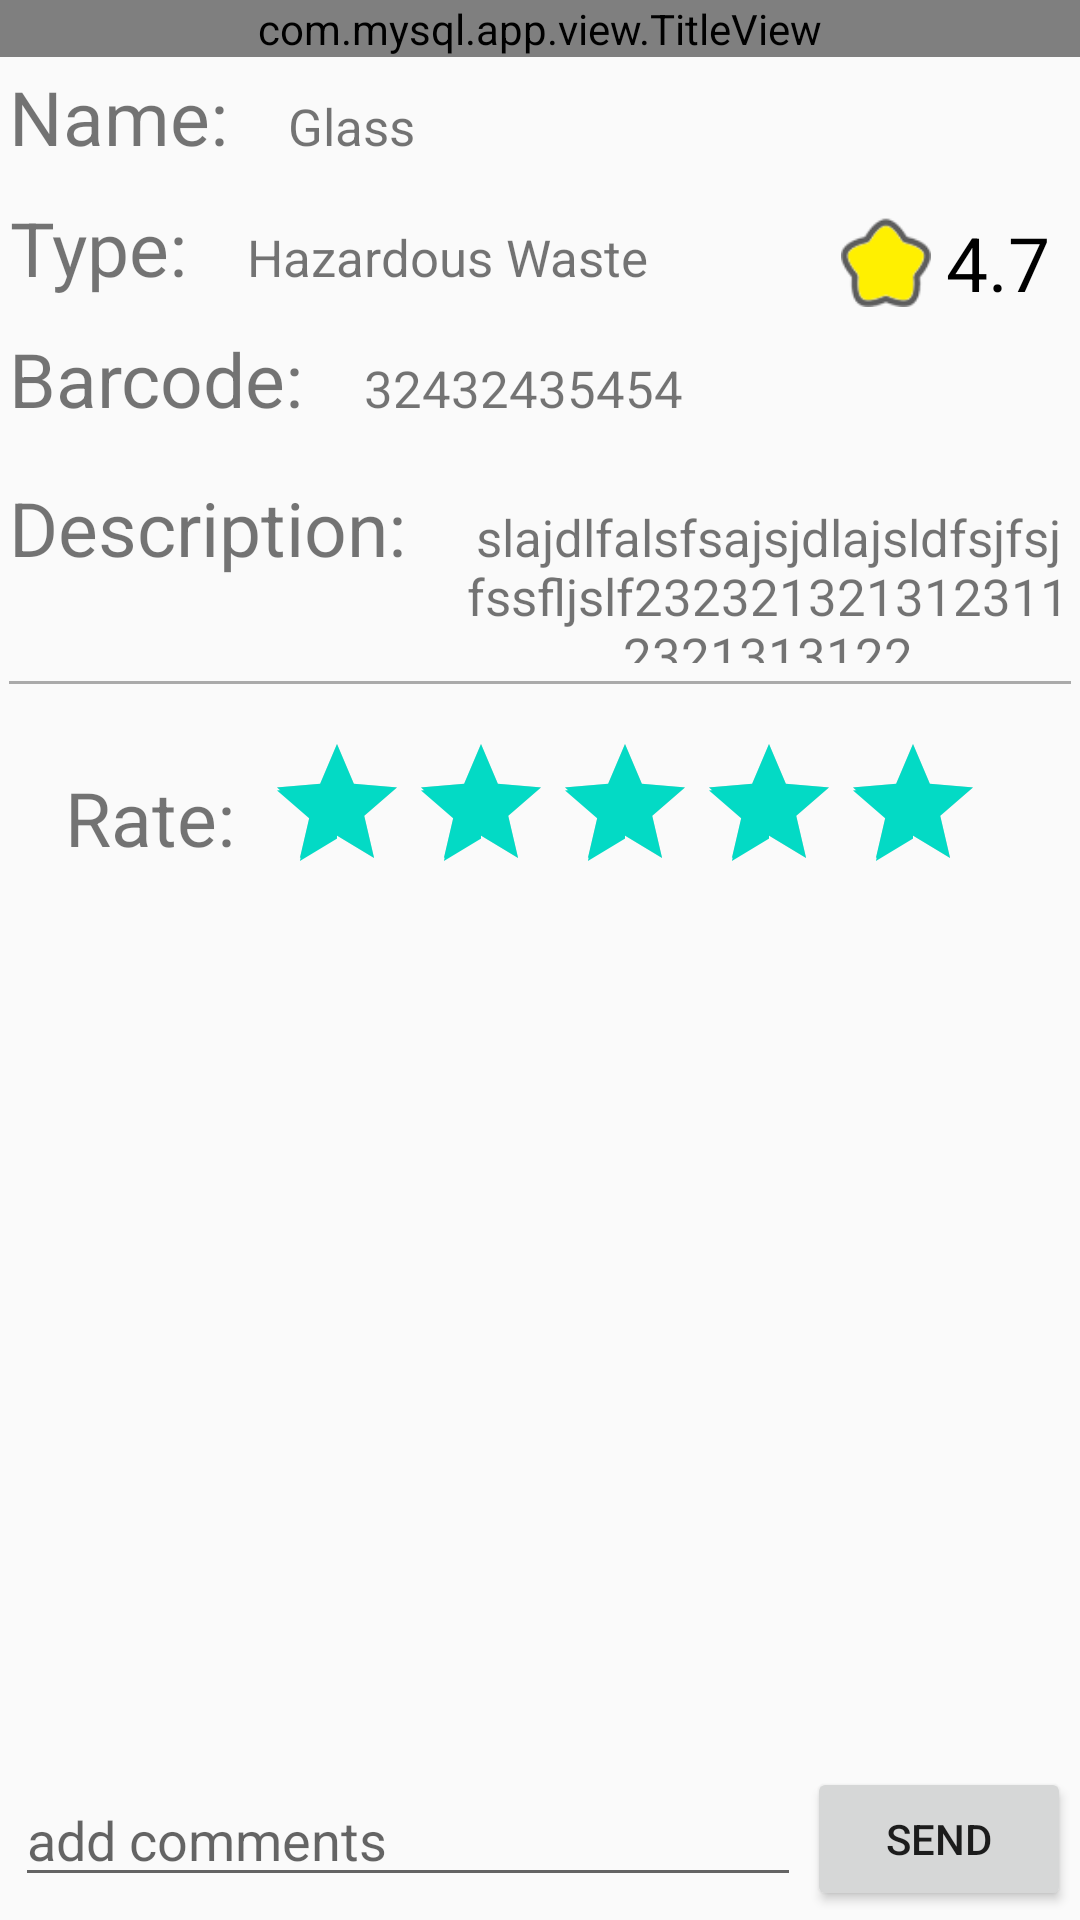

Where icons sit on this 1080px x 1920px app screen, as (x1, y1, x2, y2):
collect: (841, 218, 931, 307)
